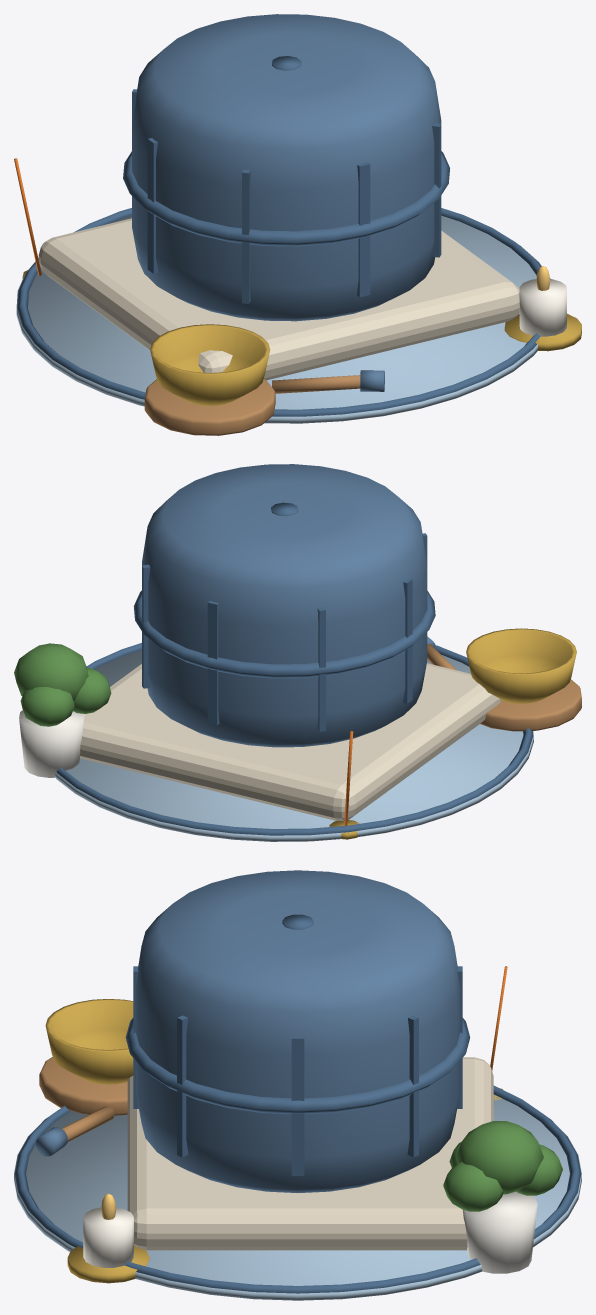
Rendered from coolDownCushion.glb.
The picture shows the model from 3 angles, top to bottom: view 1: azimuth 30°, elevation 25°; view 2: azimuth 150°, elevation 25°; view 3: azimuth 270°, elevation 25°; orthographic projection. The views are drawn at different scales.
Visible parts, largest first — view 1: zafu, body; view 2: zafu, body; view 3: zafu, body.
Part boxes in pixels (left/top/right/bottom): zafu: left=123, top=14, right=449, bottom=321; body: left=14, top=158, right=581, bottom=435; zafu: left=133, top=464, right=435, bottom=747; body: left=14, top=628, right=581, bottom=841; zafu: left=125, top=870, right=470, bottom=1192; body: left=14, top=966, right=581, bottom=1300.
Size of the model in its own units: 0.9 by 0.454 by 0.9.
